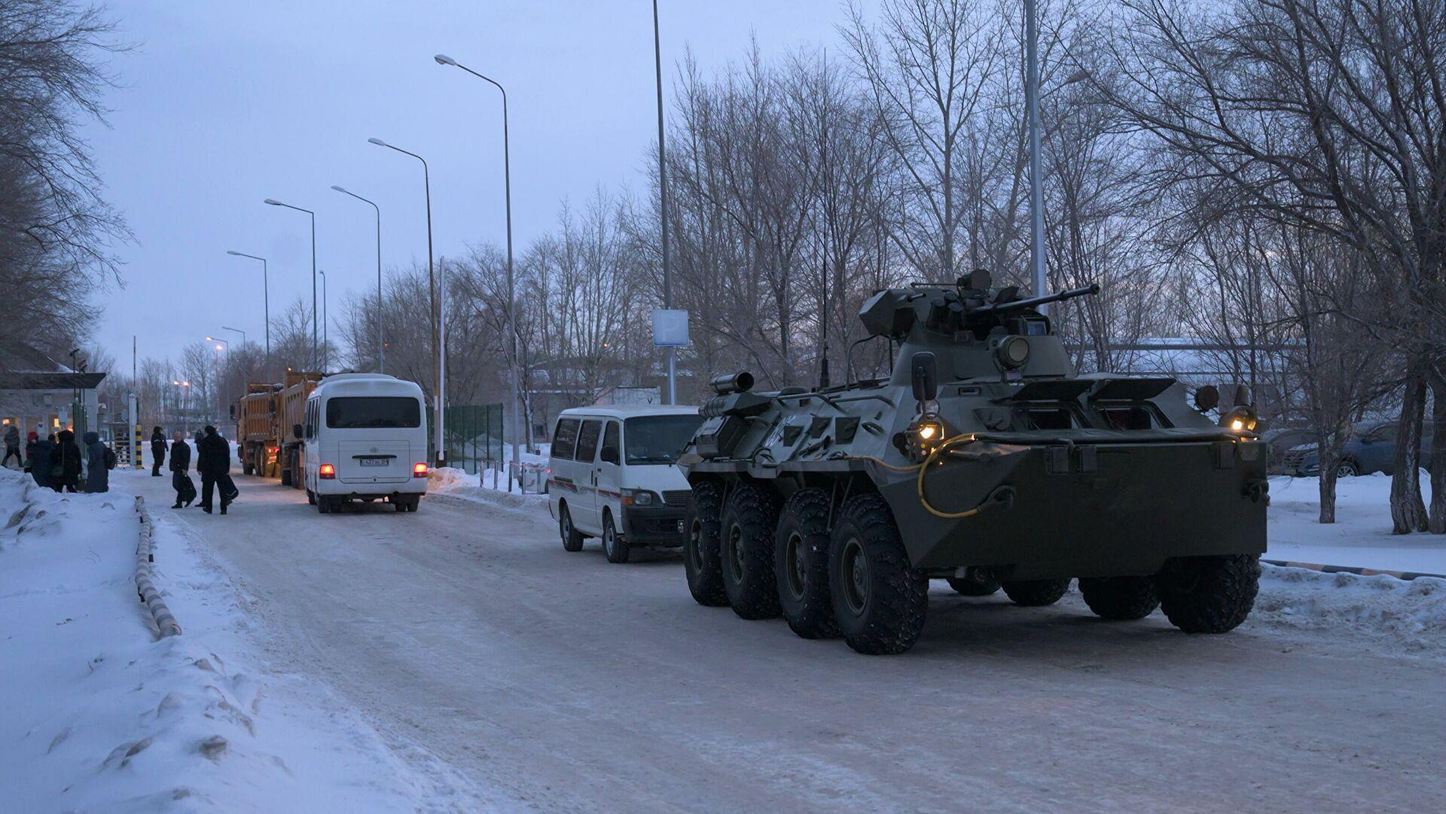car: (548, 405, 683, 567)
person: (81, 430, 121, 498), (200, 421, 227, 512), (164, 431, 195, 508), (0, 422, 24, 468), (148, 423, 166, 481)
tank: (680, 277, 1278, 645)
